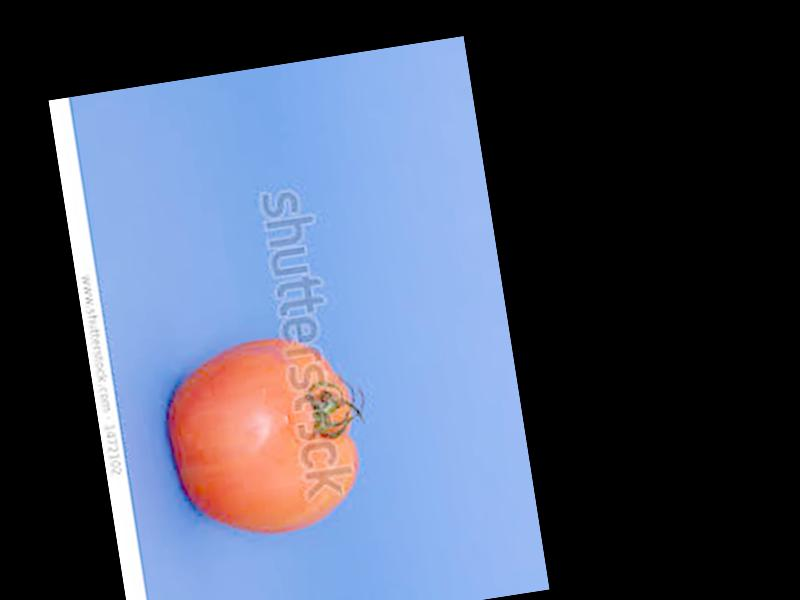Tomato: (160, 330, 371, 550)
